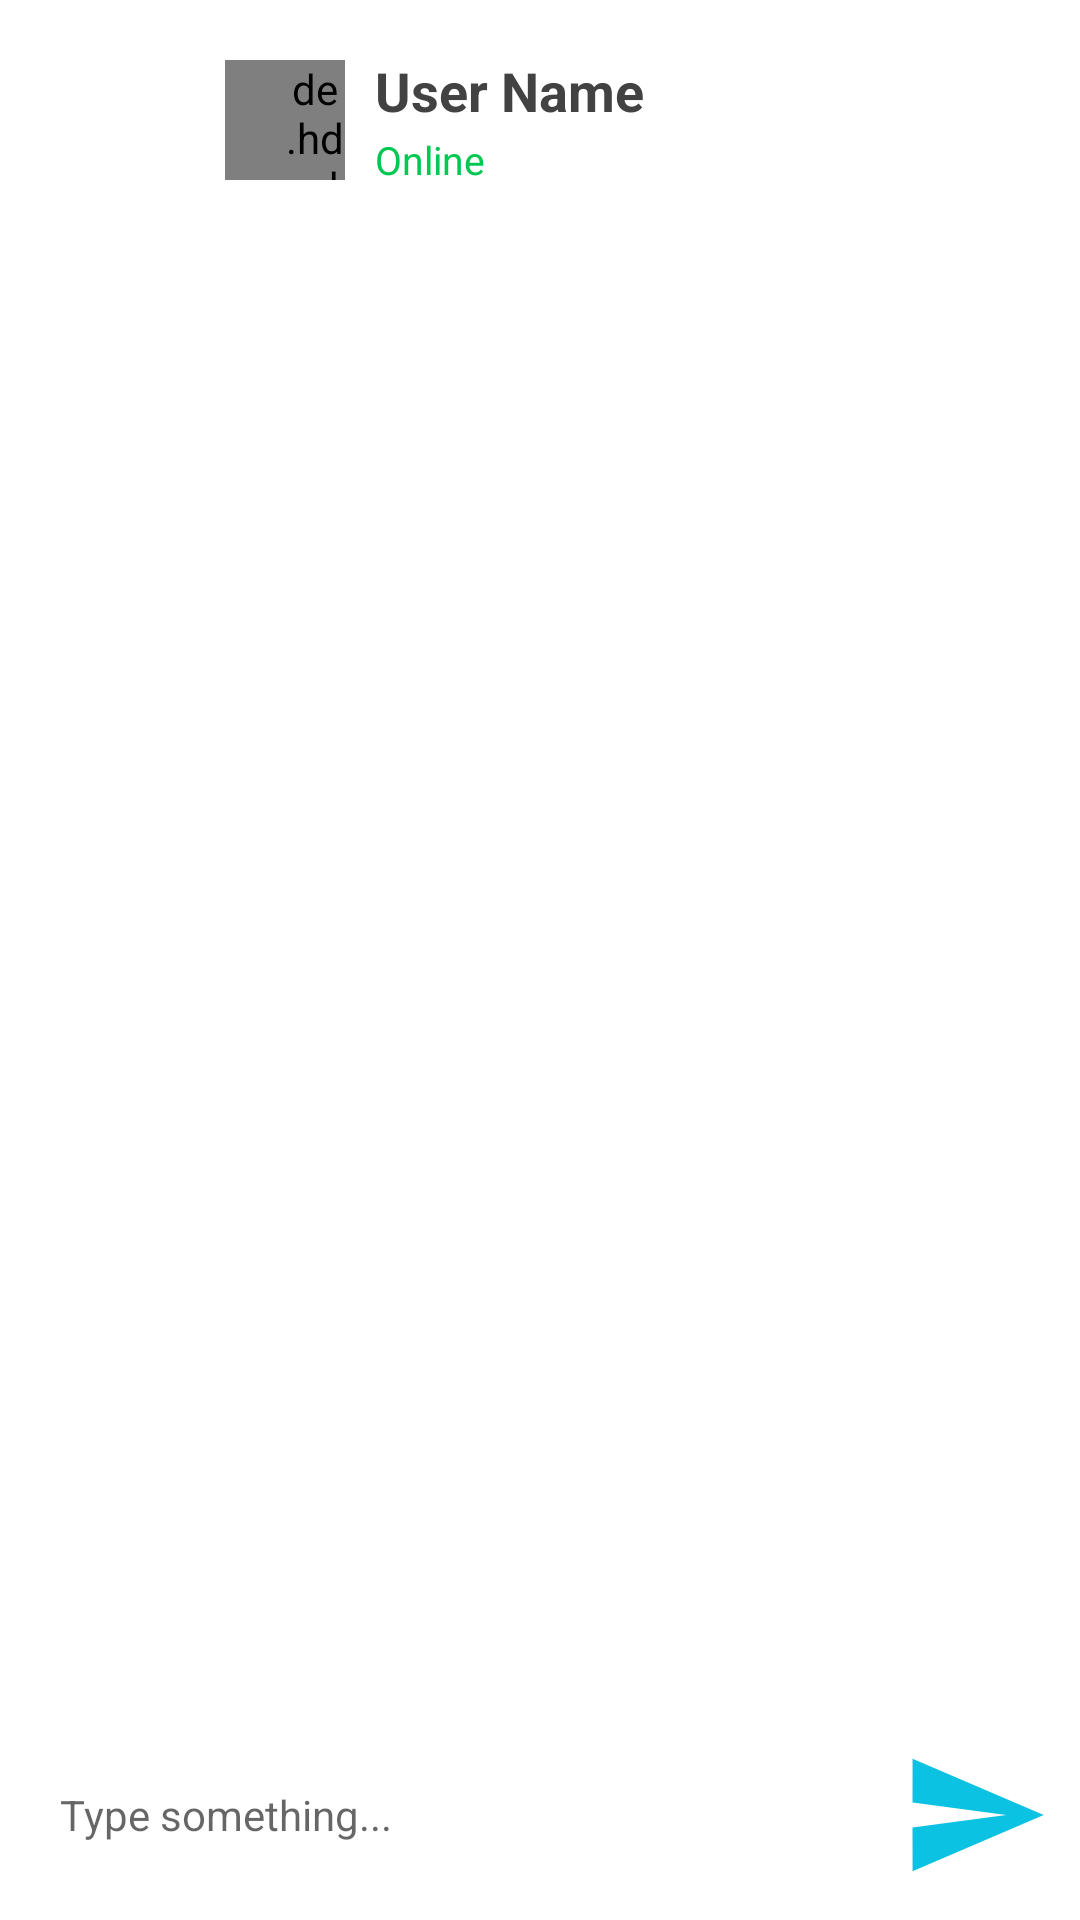

Where icons sit on this 1080*1920 app screen, as (x1,y1,x2,y2):
send: (912,1759,1044,1871)
